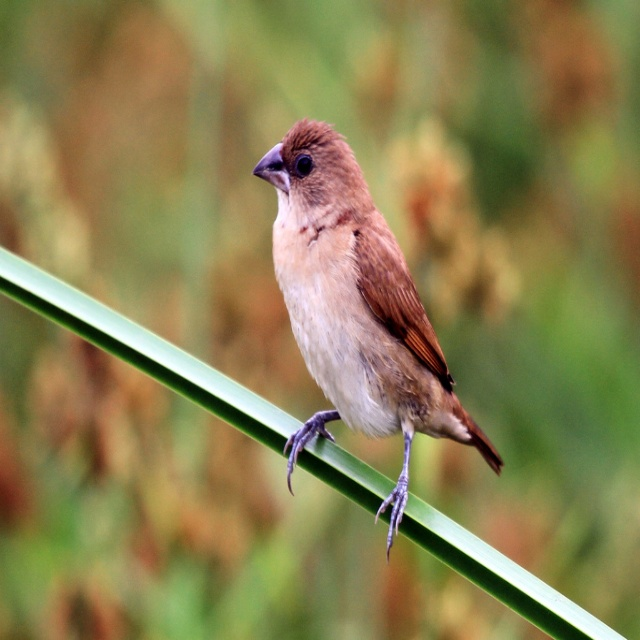Sparrow: (251, 115, 504, 565)
